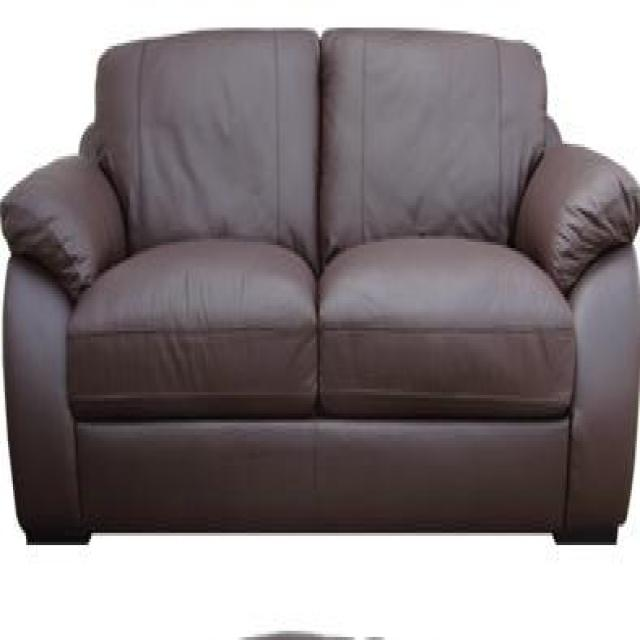sofa: (0, 23, 640, 548)
